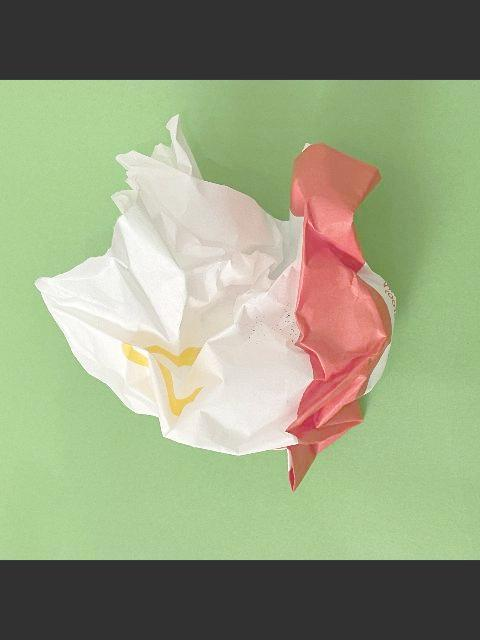paperbag: (32, 114, 396, 492)
